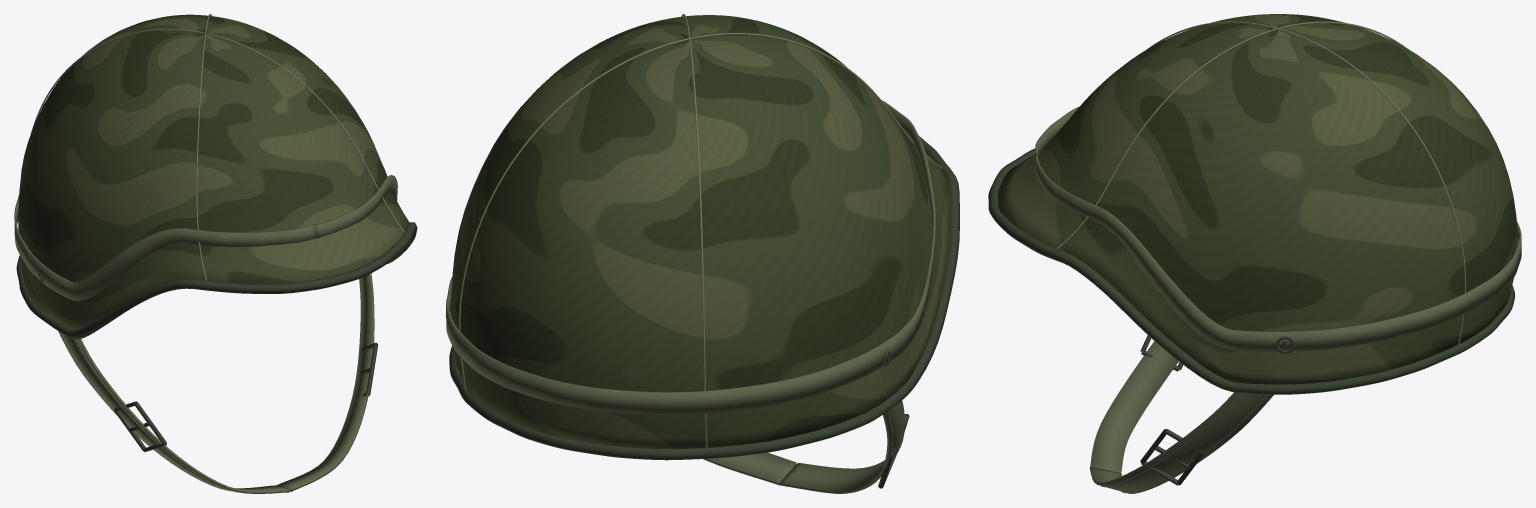
File: pasgt-field-helmet.glb
3 views of the same model, side by side, from view 1: azimuth 30°, elevation 25°; view 2: azimuth 150°, elevation 25°; view 3: azimuth 270°, elevation 25° (orthographic). The views are drawn at different scales.
Visible parts, largest first — view 1: PASGT shaped cloth-covered shell, PASGT olive flat nylon webbing, PASGT moulded rubber rim, PASGT cover seam thread, PASGT blackened steel fasteners; view 2: PASGT shaped cloth-covered shell, PASGT olive flat nylon webbing, PASGT moulded rubber rim, PASGT cover seam thread; view 3: PASGT shaped cloth-covered shell, PASGT olive flat nylon webbing, PASGT moulded rubber rim, PASGT cover seam thread, PASGT blackened steel fasteners.
Part boxes in pixels (x1=…): PASGT shaped cloth-covered shell: x1=18, y1=14, x2=409, y2=329; PASGT olive flat nylon webbing: x1=14, y1=175, x2=397, y2=493; PASGT moulded rubber rim: x1=16, y1=222, x2=417, y2=339; PASGT cover seam thread: x1=31, y1=14, x2=404, y2=493; PASGT blackened steel fasteners: x1=39, y1=270, x2=378, y2=451; PASGT shaped cloth-covered shell: x1=450, y1=15, x2=950, y2=449; PASGT olive flat nylon webbing: x1=446, y1=99, x2=935, y2=493; PASGT moulded rubber rim: x1=449, y1=136, x2=959, y2=460; PASGT cover seam thread: x1=458, y1=14, x2=942, y2=456; PASGT shaped cloth-covered shell: x1=998, y1=14, x2=1517, y2=384; PASGT olive flat nylon webbing: x1=1035, y1=106, x2=1521, y2=493; PASGT moulded rubber rim: x1=988, y1=148, x2=1514, y2=394; PASGT cover seam thread: x1=1056, y1=21, x2=1466, y2=493; PASGT blackened steel fasteners: x1=1140, y1=335, x2=1294, y2=485.
Size of the model in its own units: 0.2343 by 0.2805 by 0.3027.
5 materials, 1 textured.
